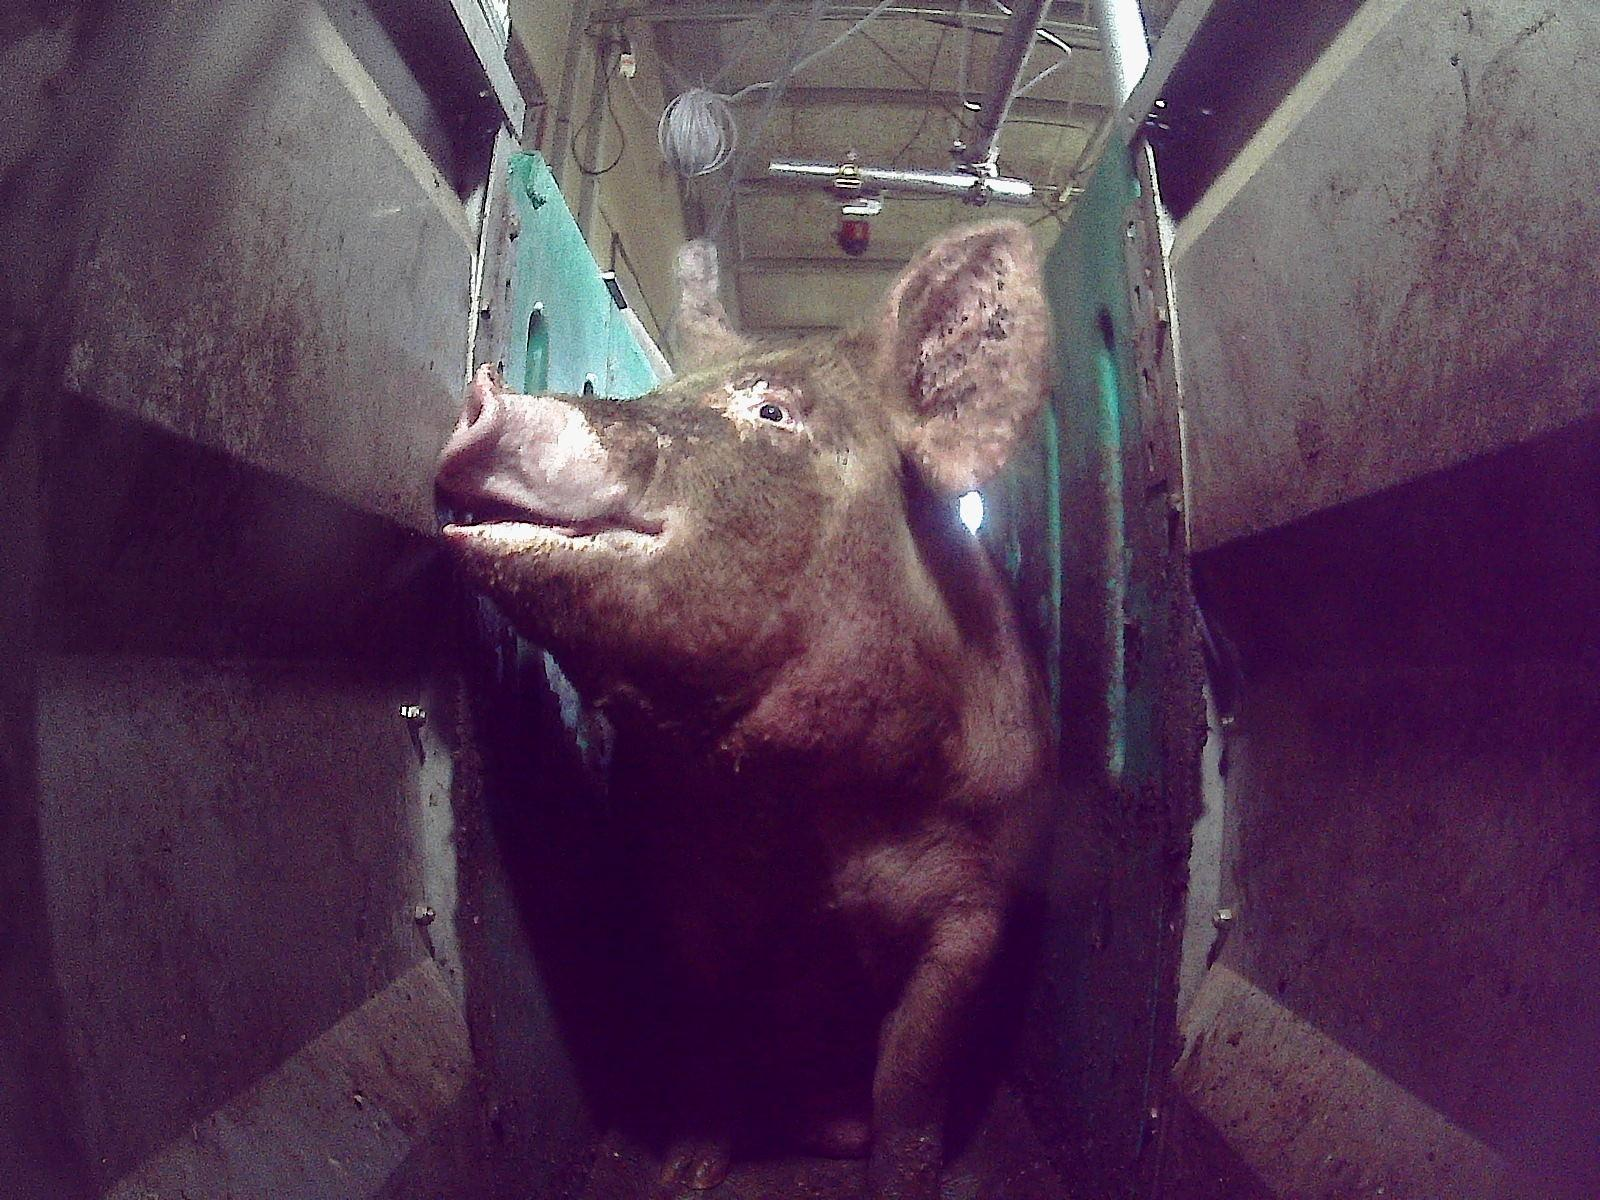Face: (426, 346, 928, 793)
